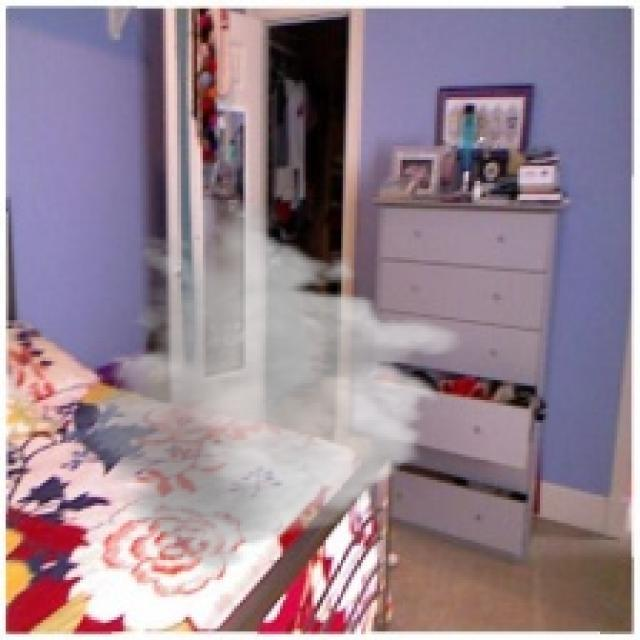Smoke: (66, 197, 468, 572)
